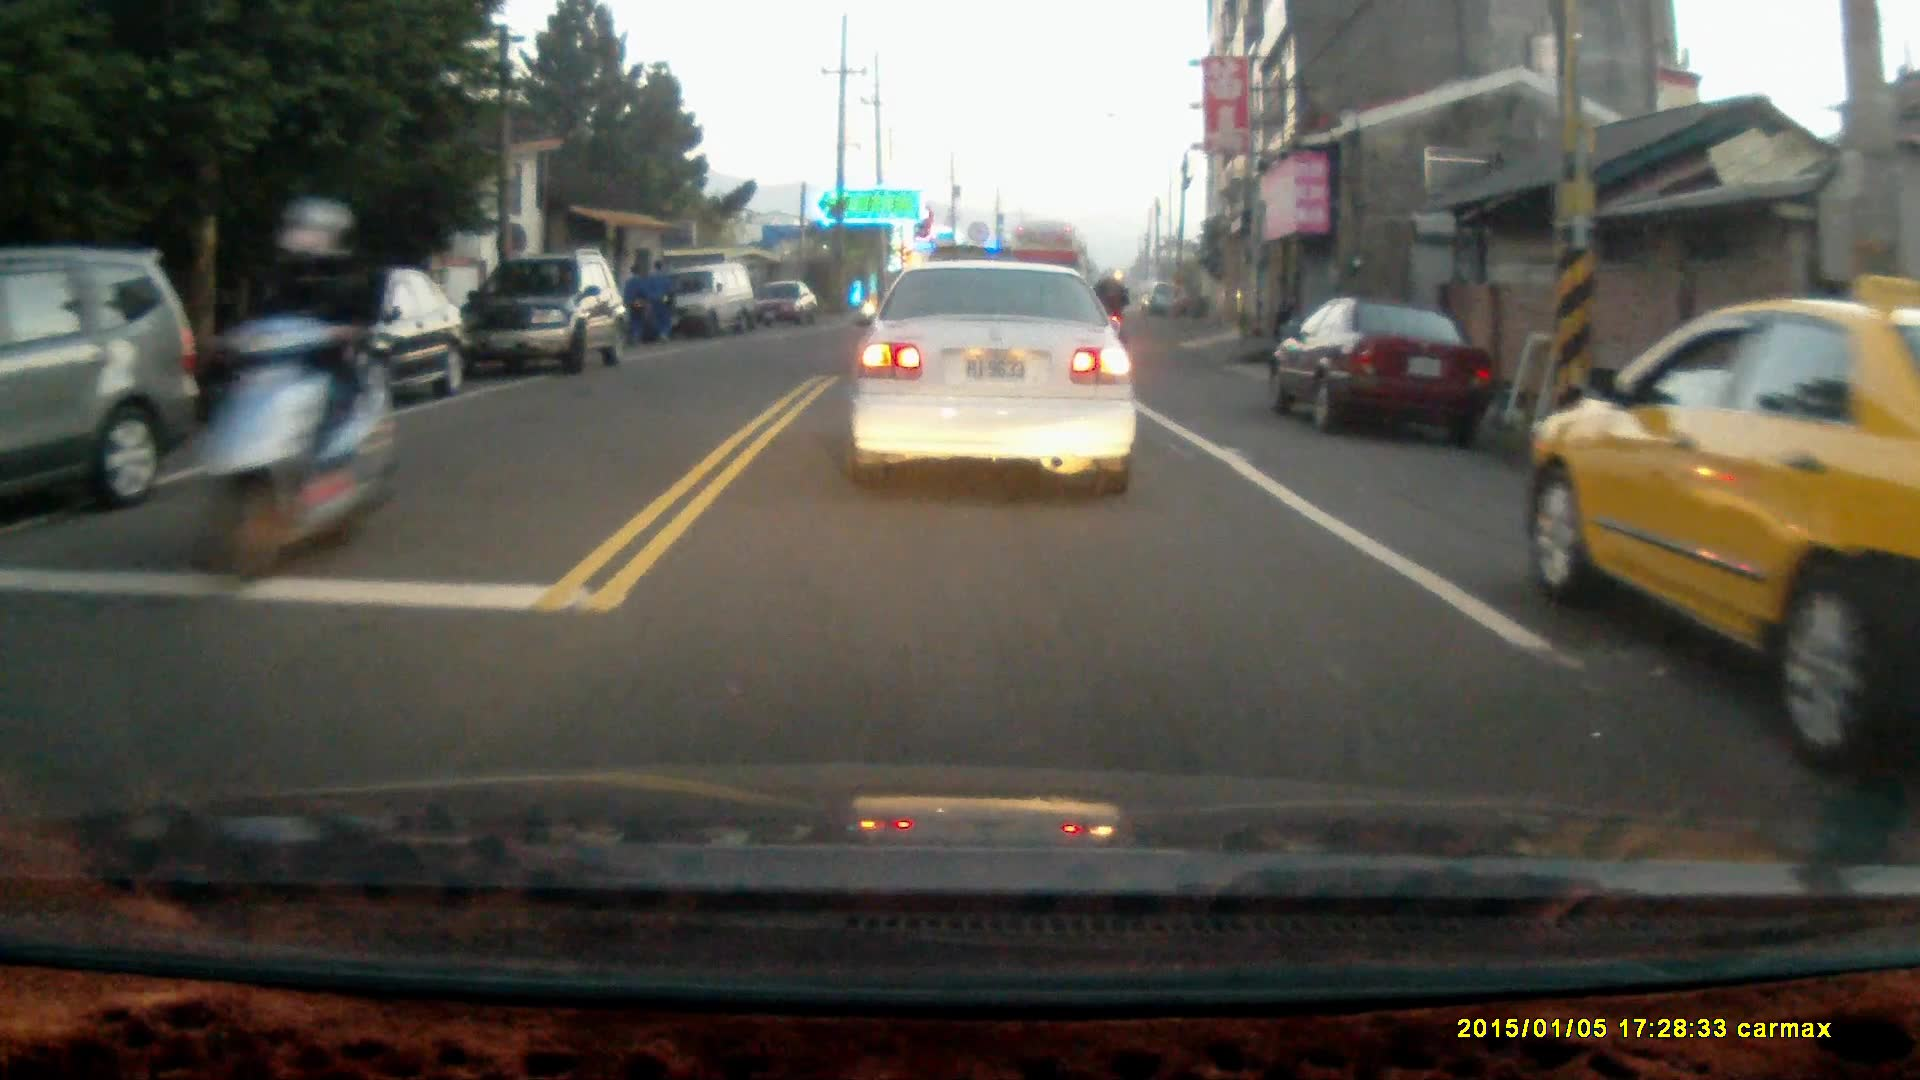pedestrian: (645, 257, 672, 345), (621, 262, 649, 346)
rider: (183, 194, 395, 590), (1085, 267, 1130, 367)
vehicle: (1531, 276, 1920, 776), (852, 261, 1138, 505), (208, 264, 472, 420), (1269, 298, 1498, 443), (453, 251, 629, 379), (649, 266, 757, 340), (736, 280, 819, 330)
